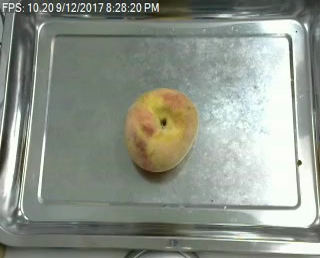Peach: (124, 87, 198, 172)
